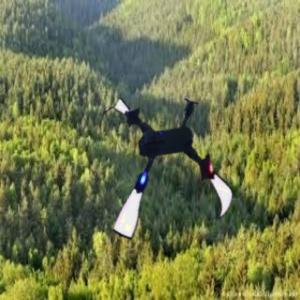drone: (87, 87, 251, 251)
